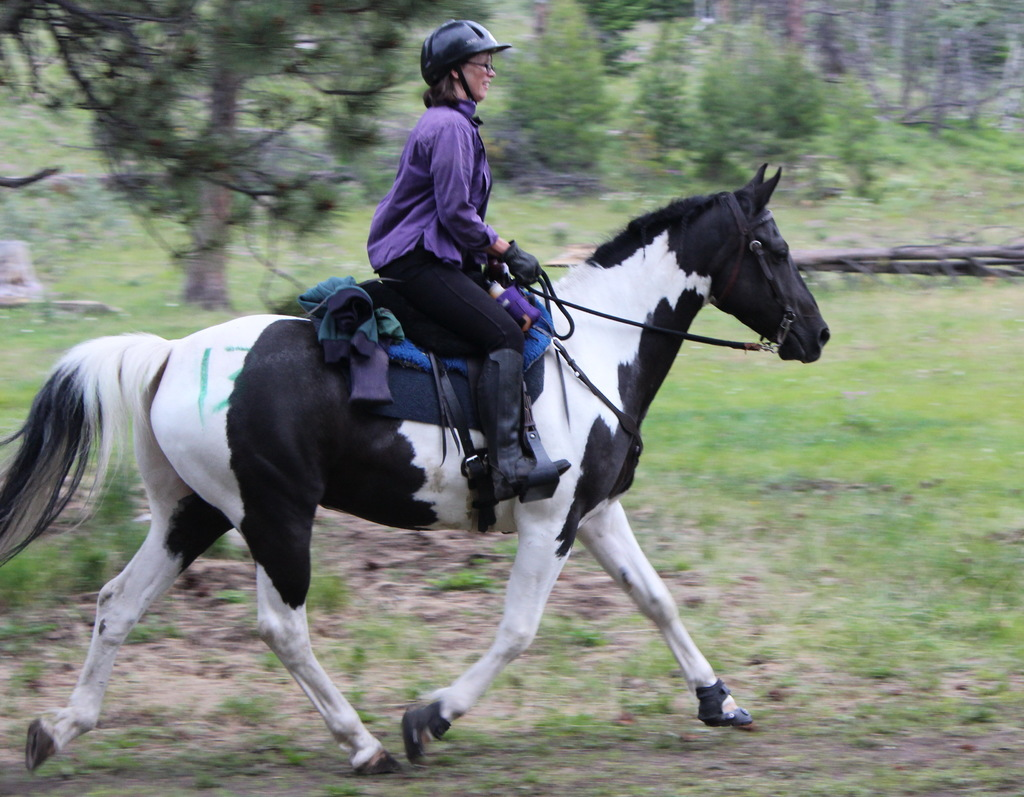horse: (0, 159, 831, 774)
